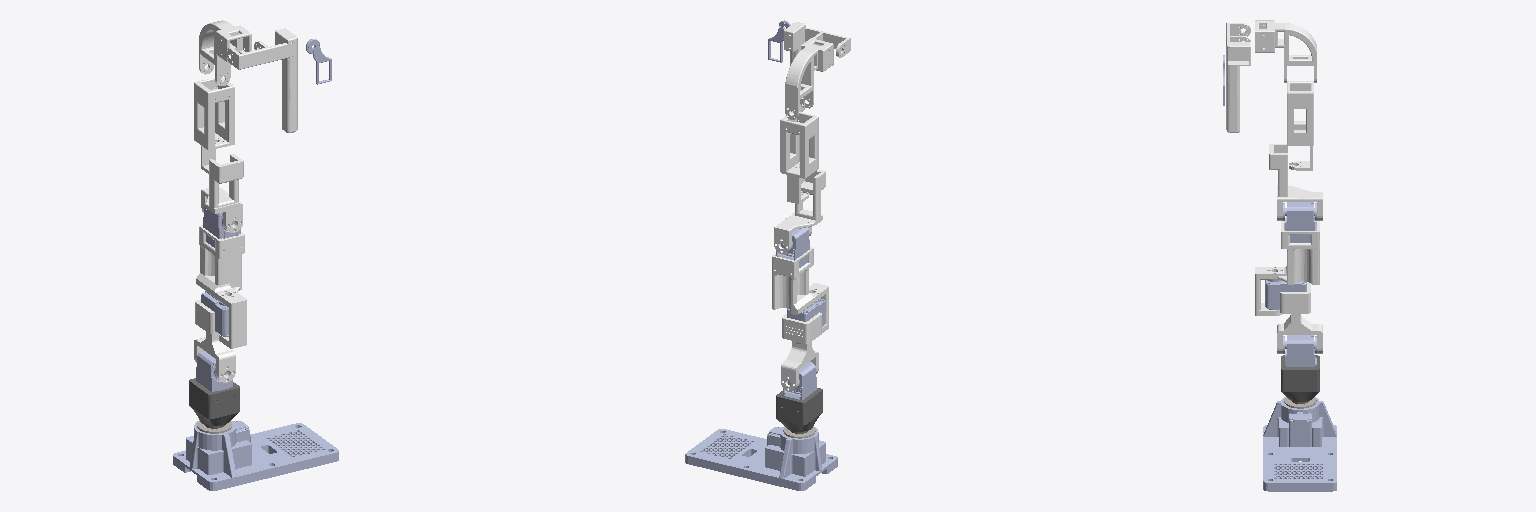
The robot description file, URDF, robot "force_gello_urdf":
<?xml version="1.0" encoding="utf-8"?>
<robot name="force_gello_urdf">
  <link name="world"/>
  <joint name="joint0" type="fixed">
    <origin rpy="0 0 0" xyz="0 0 0" />
    <parent link="world" />
    <child link="base_link" />
  </joint>

  <!-- base_link -->
  <link name="base_link">
    <inertial>
      <origin
        xyz="0.0317019077856031 0.000122497816009815 0.0124338259109878"
        rpy="0 0 0" />
      <mass value="67.25" />
      <inertia
        ixx="0.045127497"
        ixy="-0.000497221"
        ixz="0.016234645"
        iyy="0.131924386"
        iyz="0.000061277"
        izz="0.157329439" />
    </inertial>
    <visual>
      <origin xyz="0 0 0" rpy="0 0 0" />
      <geometry>
        <mesh filename="package://force_gello_urdf/meshes/base_link.STL" />
      </geometry>
      <material name="">
        <color rgba="0.792156862745098 0.819607843137255 0.933333333333333 1" />
      </material>
    </visual>
    <collision>
      <origin xyz="0 0 0" rpy="0 0 0" />
      <geometry>
        <mesh filename="package://force_gello_urdf/meshes/base_link.STL" />
      </geometry>
    </collision>
  </link>

  <!-- link1 -->
  <link name="link1">
    <inertial>
      <origin
        xyz="3.03020994149863E-05 0.00016374180285061 0.0239753807937216"
        rpy="0 0 0" />
      <mass value="18.04" />
      <inertia
        ixx="0.004132033"
        ixy="-0.000002208"
        ixz="-0.000033707"
        iyy="0.004888524"
        iyz="0.000310569"
        izz="0.004679501" />
    </inertial>
    <visual>
      <origin xyz="0 0 0" rpy="0 0 0" />
      <geometry>
        <mesh filename="package://force_gello_urdf/meshes/link1.STL" />
      </geometry>
      <material name="">
        <color rgba="0.501960784313725 0.501960784313725 0.501960784313725 0.25" />
      </material>
    </visual>
    <collision>
      <origin xyz="0 0 0" rpy="0 0 0" />
      <geometry>
        <mesh filename="package://force_gello_urdf/meshes/link1.STL" />
      </geometry>
    </collision>
  </link>
  <joint name="join1" type="continuous">
    <origin xyz="0 0 0.0501" rpy="0 0 -1.57079632679" />
    <parent link="base_link" />
    <child link="link1" />
    <axis xyz="0 0 1" />
  </joint>

  <!-- link2 -->
  <link name="link2">
    <inertial>
      <origin
        xyz="-0.0347685303838777 -1.35727831379085E-05 -0.0235315780840539"
        rpy="0 0 0" />
      <mass value="15.6" />
      <inertia
        ixx="0.003905395"
        ixy="-0.000004534"
        ixz="0.000025143"
        iyy="0.009299602"
        iyz="-0.000000091"
        izz="0.007985754" />
    </inertial>
    <visual>
      <origin xyz="0 0 0" rpy="0 0 0" />
      <geometry>
        <mesh filename="package://force_gello_urdf/meshes/link2.STL" />
      </geometry>
      <material name="">
        <color rgba="1 1 1 1" />
      </material>
    </visual>
    <collision>
      <origin xyz="0 0 0" rpy="0 0 0" />
      <geometry>
        <mesh filename="package://force_gello_urdf/meshes/link2.STL" />
      </geometry>
    </collision>
  </link>
  <joint name="joint2" type="continuous">
    <origin xyz="0.0255 0 0.06786667" rpy="0 1.5707963267949 0" />
    <parent link="link1" />
    <child link="link2" />
    <axis xyz="0 0 1" />
  </joint>

  <!-- link3 -->
  <link name="link3">
    <inertial>
      <origin
        xyz="0.00621142929683009 0.0184041501617898 0.00995822777672023"
        rpy="0 0 0" />
      <mass value="24.3" />
      <inertia
        ixx="0.026430932"
        ixy="-0.001390066"
        ixz="-0.002005179"
        iyy="0.018548759"
        iyz="-0.007654696"
        izz="0.01165823" />
    </inertial>
    <visual>
      <origin xyz="0 0 0" rpy="0 0 0" />
      <geometry>
        <mesh filename="package://force_gello_urdf/meshes/link3.STL" />
      </geometry>
      <material name="">
        <color rgba="1 1 1 0.25" />
      </material>
    </visual>
    <collision>
      <origin xyz="0 0 0" rpy="0 0 0" />
      <geometry>
        <mesh filename="package://force_gello_urdf/meshes/link3.STL" />
      </geometry>
    </collision>
  </link>
  <joint name="joint3" type="continuous">
    <origin
      xyz="-0.0891650146194216 0 0.00231333000000002"
      rpy="-1.5707963267949 0 1.5707963267949" />
    <parent link="link2" />
    <child link="link3" />
    <axis xyz="0 0 1" />
  </joint>

  <!-- link4 -->
  <link name="link4">
    <inertial>
      <origin
        xyz="-0.0056615029518119 -0.0322004124361468 0.0123421466030631"
        rpy="0 0 0" />
      <mass value="13.1" />
      <inertia
        ixx="0.009925968"
        ixy="-0.000830187"
        ixz="-0.000534387"
        iyy="0.004715315"
        iyz="-0.002728009"
        izz="0.007593238" />
    </inertial>
    <visual>
      <origin xyz="0 0 0" rpy="0 0 0" />
      <geometry>
        <mesh filename="package://force_gello_urdf/meshes/link4.STL" />
      </geometry>
      <material name="">
        <color rgba="1 1 1 0.25" />
      </material>
    </visual>
    <collision>
      <origin xyz="0 0 0" rpy="0 0 0" />
      <geometry>
        <mesh filename="package://force_gello_urdf/meshes/link4.STL" />
      </geometry>
    </collision>
  </link>
  <joint name="joint4" type="continuous">
    <origin
      xyz="0.00850666380206562 0.00231334175953646 0.0740349853805785"
      rpy="-1.5707963267949 0 0" />
    <parent link="link3" />
    <child link="link4" />
    <axis xyz="0 0 1" />
  </joint>

  <!-- link5 -->
  <link name="link5">
    <inertial>
      <origin
        xyz="-0.00528527800387003 5.0064676190978E-06 0.0290932539408084"
        rpy="0 0 0" />
      <mass value="16.3" />
      <inertia
        ixx="0.012577227"
        ixy="-0.000000429"
        ixz="-0.000588027"
        iyy="0.012002534"
        iyz="0.000000044"
        izz="0.003500665" />
    </inertial>
    <visual>
      <origin xyz="0 0 0" rpy="0 0 0" />
      <geometry>
        <mesh filename="package://force_gello_urdf/meshes/link5.STL" />
      </geometry>
      <material name="">
        <color rgba="1 1 1 1" />
      </material>
    </visual>
    <collision>
      <origin xyz="0 0 0" rpy="0 0 0" />
      <geometry>
        <mesh filename="package://force_gello_urdf/meshes/link5.STL" />
      </geometry>
    </collision>
  </link>
  <joint name="joint5" type="continuous">
    <origin
      xyz="-0.008506667 -0.0789331801981524 0.021046667"
      rpy="1.5707963267949 1.5707963267949 0" />
    <parent link="link4" />
    <child link="link5" />
    <axis xyz="0 0 1" />
  </joint>

  <!-- link6 -->
  <link name="link6">
    <inertial>
      <origin
        xyz="-6.59219054577203E-07 0.0383145431149022 -0.00220958689963641"
        rpy="0 0 0" />
      <mass value="14.91" />
      <inertia
        ixx="0.009406079"
        ixy="0.000000538"
        ixz="0.000000674"
        iyy="0.006387543"
        iyz="-0.002234883"
        izz="0.004502388" />
    </inertial>
    <visual>
      <origin xyz="0 0 0" rpy="0 0 0" />
      <geometry>
        <mesh filename="package://force_gello_urdf/meshes/link6.STL" />
      </geometry>
      <material name="">
        <color rgba="1 1 1 1" />
      </material>
    </visual>
    <collision>
      <origin xyz="0 0 0" rpy="0 0 0" />
      <geometry>
        <mesh filename="package://force_gello_urdf/meshes/link6.STL" />
      </geometry>
    </collision>
  </link>
  <joint name="jonit6" type="continuous">
    <origin
      xyz="0.0135466670000058 0 0.0800001198018476"
      rpy="1.5707963267949 0 1.5707963267949" />
    <parent link="link5" />
    <child link="link6" />
    <axis xyz="0 0 1" />
  </joint>

  <!-- link7 -->
  <link name="link7">
    <inertial>
      <origin
        xyz="0.0280387804523955 -0.0100778690942196 0.0157666007372195"
        rpy="0 0 0" />
      <mass value="18.5" />
      <inertia
        ixx="0.007771143"
        ixy="0.000477751"
        ixz="-0.005568384"
        iyy="0.024887228"
        iyz="-0.00019489"
        izz="0.018855311" />
    </inertial>
    <visual>
      <origin xyz="0 0 0" rpy="0 0 0" />
      <geometry>
        <mesh filename="package://force_gello_urdf/meshes/link7.STL" />
      </geometry>
      <material name="">
        <color rgba="1 1 1 1" />
      </material>
    </visual>
    <collision>
      <origin xyz="0 0 0" rpy="0 0 0" />
      <geometry>
        <mesh filename="package://force_gello_urdf/meshes/link7.STL" />
      </geometry>
    </collision>
  </link>
  <joint name="joint7" type="continuous">
    <origin
      xyz="0.0180000000000007 0.0469333300000001 0.0437119999999942"
      rpy="-1.5707963267949 0 -1.5707963267949" />
    <parent link="link6" />
    <child link="link7" />
    <axis xyz="0 0 1" />
  </joint>

  <!-- link8 -->
  <link name="link8">
    <inertial>
      <origin
        xyz="0.00631459336826165 -0.0133873198803782 -0.0015000015960715"
        rpy="0 0 0" />
      <mass value="2.4" />
      <inertia
        ixx="0.000462373"
        ixy="0.000157533"
        ixz="-9.7414E-11"
        iyy="0.000125856"
        iyz="-1.15147E-10"
        izz="0.000584835" />
    </inertial>
    <visual>
      <origin xyz="0 0 0" rpy="0 0 0" />
      <geometry>
        <mesh filename="package://force_gello_urdf/meshes/link8.STL" />
      </geometry>
      <material name="">
        <color rgba="0.792156862745098 0.819607843137255 0.933333333333333 1" />
      </material>
    </visual>
    <collision>
      <origin xyz="0 0 0" rpy="0 0 0" />
      <geometry>
        <mesh filename="package://force_gello_urdf/meshes/link8.STL" />
      </geometry>
    </collision>
  </link>
  <joint name="joint8" type="continuous">
    <origin
      xyz="0 -0.0224999999999999 0.0474999999999993"
      rpy="1.57079632679491 -1.5707963267949 0" />
    <parent link="link7" />
    <child link="link8" />
    <axis xyz="0 0 -1" />
  </joint>

  <!-- flange (no inertial given) -->
  <link name="flange"/>
  <joint name="link7_to_flange" type="fixed">
    <parent link="link7" />
    <child link="flange" />
    <origin rpy="0 6.28318530718 0" xyz="0.0 0.0 0.03"/>
  </joint>

  <!-- motor7 -->
  <link name="motor7">
    <inertial>
      <origin
        xyz="-6.67089214811956E-06 -0.00663537074253837 0.0418258086254109"
        rpy="0 0 0" />
      <mass value="37.28" />
      <inertia
        ixx="0.003557032"
        ixy="0.000000113"
        ixz="0.000002699"
        iyy="0.004684389"
        iyz="-0.000005119"
        izz="0.00161564" />
    </inertial>
    <visual>
      <origin xyz="0 0 0" rpy="0 0 0" />
      <geometry>
        <mesh filename="package://force_gello_urdf/meshes/motor7.STL" />
      </geometry>
      <material name="">
        <color rgba="1 1 1 1" />
      </material>
    </visual>
    <collision>
      <origin xyz="0 0 0" rpy="0 0 0" />
      <geometry>
        <mesh filename="package://force_gello_urdf/meshes/motor7.STL" />
      </geometry>
    </collision>
  </link>
  <joint name="motor7" type="fixed">
    <origin xyz="0 0 0" rpy="0 0 0" />
    <parent link="link7" />
    <child link="motor7" />
    <axis xyz="0 0 0" />
  </joint>

  <!-- motor6 -->
  <link name="motor6">
    <inertial>
      <origin
        xyz="-0.00163537362274013 0.0469400021832104 0.0380378067925801"
        rpy="0 0 0" />
      <mass value="37.28" />
      <inertia
        ixx="0.004684389"
        ixy="-0.000000113"
        ixz="-0.000005119"
        iyy="0.003557032"
        iyz="-0.000002699"
        izz="0.001615641" />
    </inertial>
    <visual>
      <origin xyz="0 0 0" rpy="0 0 0" />
      <geometry>
        <mesh filename="package://force_gello_urdf/meshes/motor6.STL" />
      </geometry>
      <material name="">
        <color rgba="1 1 1 1" />
      </material>
    </visual>
    <collision>
      <origin xyz="0 0 0" rpy="0 0 0" />
      <geometry>
        <mesh filename="package://force_gello_urdf/meshes/motor6.STL" />
      </geometry>
    </collision>
  </link>
  <joint name="motor6" type="fixed">
    <origin xyz="0 0 0" rpy="0 0 0" />
    <parent link="link6" />
    <child link="motor6" />
    <axis xyz="0 0 0" />
  </joint>

  <!-- motor5 -->
  <link name="motor5">
    <inertial>
      <origin
        xyz="-0.00608870374254241 6.67089214718616E-06 0.074325928427259"
        rpy="0 0 0" />
      <mass value="37.28" />
      <inertia
        ixx="0.004684389"
        ixy="-0.000000113"
        ixz="-0.000005119"
        iyy="0.003557032"
        iyz="-0.000002699"
        izz="0.00161564" />
    </inertial>
    <visual>
      <origin xyz="0 0 0" rpy="0 0 0" />
      <geometry>
        <mesh filename="package://force_gello_urdf/meshes/motor5.STL" />
      </geometry>
      <material name="">
        <color rgba="1 1 1 1" />
      </material>
    </visual>
    <collision>
      <origin xyz="0 0 0" rpy="0 0 0" />
      <geometry>
        <mesh filename="package://force_gello_urdf/meshes/motor5.STL" />
      </geometry>
    </collision>
  </link>
  <joint name="motor5" type="fixed">
    <origin xyz="0 0 0" rpy="0 0 0" />
    <parent link="link5" />
    <child link="motor5" />
    <axis xyz="0 0 0" />
  </joint>

  <!-- motor4 -->
  <link name="motor4">
    <inertial>
      <origin
        xyz="-0.00849999610785278 -0.06579780945561 0.0153724756254114"
        rpy="0 0 0" />
      <mass value="37.28" />
      <inertia
        ixx="0.003557032"
        ixy="0.000000113"
        ixz="-0.000002699"
        iyy="0.004684389"
        iyz="0.000005119"
        izz="0.00161564" />
    </inertial>
    <visual>
      <origin xyz="0 0 0" rpy="0 0 0" />
      <geometry>
        <mesh filename="package://force_gello_urdf/meshes/motor4.STL" />
      </geometry>
      <material name="">
        <color rgba="1 1 1 1" />
      </material>
    </visual>
    <collision>
      <origin xyz="0 0 0" rpy="0 0 0" />
      <geometry>
        <mesh filename="package://force_gello_urdf/meshes/motor4.STL" />
      </geometry>
    </collision>
  </link>
  <joint name="motor4" type="fixed">
    <origin xyz="0 0 0" rpy="0 0 0" />
    <parent link="link4" />
    <child link="motor4" />
    <axis xyz="0 0 0" />
  </joint>

  <!-- motor3 -->
  <link name="motor3">
    <inertial>
      <origin
        xyz="0.00850635532374036 0.026024277087181 0.0639134006565433"
        rpy="0 0 0" />
      <mass value="84.19" />
      <inertia
        ixx="0.014120297"
        ixy="0.0000005"
        ixz="-0.000009697"
        iyy="0.018263265"
        iyz="-0.000076394"
        izz="0.005941697" />
    </inertial>
    <visual>
      <origin xyz="0 0 0" rpy="0 0 0" />
      <geometry>
        <mesh filename="package://force_gello_urdf/meshes/motor3.STL" />
      </geometry>
      <material name="">
        <color rgba="0.792156862745098 0.819607843137255 0.933333333333333 1" />
      </material>
    </visual>
    <collision>
      <origin xyz="0 0 0" rpy="0 0 0" />
      <geometry>
        <mesh filename="package://force_gello_urdf/meshes/motor3.STL" />
      </geometry>
    </collision>
  </link>
  <joint name="motor3" type="fixed">
    <origin xyz="0 0 0" rpy="0 0 0" />
    <parent link="link3" />
    <child link="motor3" />
    <axis xyz="0 0 0" />
  </joint>

  <!-- motor2 -->
  <link name="motor2">
    <inertial>
      <origin
        xyz="-0.0654540749700006 2.77823051320264E-07 -0.00780824820847558"
        rpy="0 0 0" />
      <mass value="84.19" />
      <inertia
        ixx="0.018263265"
        ixy="-0.000000506"
        ixz="-0.000076394"
        iyy="0.014120298"
        iyz="0.000009699"
        izz="0.005941696" />
    </inertial>
    <visual>
      <origin xyz="0 0 0" rpy="0 0 0" />
      <geometry>
        <mesh filename="package://force_gello_urdf/meshes/motor2.STL" />
      </geometry>
      <material name="">
        <color rgba="0.792156862745098 0.819607843137255 0.933333333333333 1" />
      </material>
    </visual>
    <collision>
      <origin xyz="0 0 0" rpy="0 0 0" />
      <geometry>
        <mesh filename="package://force_gello_urdf/meshes/motor2.STL" />
      </geometry>
    </collision>
  </link>
  <joint name="motor2" type="fixed">
    <origin xyz="0 0 0" rpy="0 0 0" />
    <parent link="link2" />
    <child link="motor2" />
    <axis xyz="0 0 0" />
  </joint>

  <!-- motor1 -->
  <link name="motor1">
    <inertial>
      <origin
        xyz="0.00178906467191881 -2.75700568299096E-07 0.0577450852759487"
        rpy="0 0 0" />
      <mass value="84.19" />
      <inertia
        ixx="0.018263265"
        ixy="-0.000000506"
        ixz="0.000076394"
        iyy="0.014120297"
        iyz="-0.000009698"
        izz="0.005941697" />
    </inertial>
    <visual>
      <origin xyz="0 0 0" rpy="0 0 0" />
      <geometry>
        <mesh filename="package://force_gello_urdf/meshes/motor1.STL" />
      </geometry>
      <material name="">
        <color rgba="0.792156862745098 0.819607843137255 0.933333333333333 1" />
      </material>
    </visual>
    <collision>
      <origin xyz="0 0 0" rpy="0 0 0" />
      <geometry>
        <mesh filename="package://force_gello_urdf/meshes/motor1.STL" />
      </geometry>
    </collision>
  </link>
  <joint name="motor1" type="fixed">
    <origin xyz="0 0 0" rpy="0 0 0" />
    <parent link="link1" />
    <child link="motor1" />
    <axis xyz="0 0 0" />
  </joint>

  <!-- motor0 -->
  <link name="motor0">
    <inertial>
      <origin
        xyz="0.0101215780965976 -2.79048657452126E-07 0.0298890612863422"
        rpy="0 0 0" />
      <mass value="84.19" />
      <inertia
        ixx="0.005941695"
        ixy="0.000009699"
        ixz="-0.000076394"
        iyy="0.014120297"
        iyz="-0.000000507"
        izz="0.018263263" />
    </inertial>
    <visual>
      <origin xyz="0 0 0" rpy="0 0 0" />
      <geometry>
        <mesh filename="package://force_gello_urdf/meshes/motor0.STL" />
      </geometry>
      <material name="">
        <color rgba="0.792156862745098 0.819607843137255 0.933333333333333 1" />
      </material>
    </visual>
    <collision>
      <origin xyz="0 0 0" rpy="0 0 0" />
      <geometry>
        <mesh filename="package://force_gello_urdf/meshes/motor0.STL" />
      </geometry>
    </collision>
  </link>
  <joint name="motor0" type="fixed">
    <origin xyz="0 0 0" rpy="0 0 0" />
    <parent link="base_link" />
    <child link="motor0" />
    <axis xyz="0 0 1" />
  </joint>

  <!-- bearing -->
  <link name="bearing">
    <inertial>
      <origin
        xyz="7.95978145843504E-19 2.94331876864476E-16 0.048725844800912"
        rpy="0 0 0" />
      <mass value="20" />
      <inertia
        ixx="0.001952949"
        ixy="4.52087E-34"
        ixz="3.41863E-21"
        iyy="0.001952949"
        iyz="7.79968E-33"
        izz="0.003724769" />
    </inertial>
    <visual>
      <origin xyz="0 0 0" rpy="0 0 0" />
      <geometry>
        <mesh filename="package://force_gello_urdf/meshes/bearing.STL" />
      </geometry>
      <material name="">
        <color rgba="0.776470588235294 0.756862745098039 0.737254901960784 1" />
      </material>
    </visual>
    <collision>
      <origin xyz="0 0 0" rpy="0 0 0" />
      <geometry>
        <mesh filename="package://force_gello_urdf/meshes/bearing.STL" />
      </geometry>
    </collision>
  </link>
  <joint name="bearing" type="fixed">
    <origin xyz="0 0 0" rpy="0 0 0" />
    <parent link="base_link" />
    <child link="bearing" />
    <axis xyz="0 0 1" />
  </joint>
</robot>

--- Render facts (derived) ---
The picture shows the robot from 3 angles, left to right: view 1: azimuth 30°, elevation 25°; view 2: azimuth 150°, elevation 25°; view 3: azimuth 270°, elevation 25°; orthographic projection.
Robot: force_gello_urdf — 20 links, 19 joints (8 continuous, 11 fixed); root link world; default pose: every joint at zero.
Links seen in each view (by area): view 1: base_link, link3, link5, link7, link6, link4, link1, link2, motor1, motor2, motor3; view 2: base_link, link5, link3, link6, link2, link4, link1, link7, motor1, motor3; view 3: base_link, link3, link7, link5, link6, link2, link4, link1, motor3, motor1, motor0, motor2.
Link boxes in pixels (bbox=[...]): base_link: bbox=[173, 420, 338, 490]; link3: bbox=[196, 225, 246, 348]; link5: bbox=[194, 77, 234, 173]; link7: bbox=[226, 28, 297, 132]; link6: bbox=[199, 20, 251, 85]; link4: bbox=[201, 154, 243, 232]; link1: bbox=[189, 378, 239, 428]; link2: bbox=[194, 299, 235, 382]; motor1: bbox=[196, 351, 232, 391]; motor2: bbox=[201, 291, 228, 336]; motor3: bbox=[203, 205, 240, 247]; base_link: bbox=[685, 426, 837, 490]; link5: bbox=[780, 111, 818, 204]; link3: bbox=[772, 247, 828, 332]; link6: bbox=[785, 38, 833, 119]; link2: bbox=[781, 312, 821, 391]; link4: bbox=[774, 170, 825, 253]; link1: bbox=[776, 388, 822, 433]; link7: bbox=[784, 22, 850, 111]; motor1: bbox=[783, 362, 816, 399]; motor3: bbox=[776, 227, 809, 267]; base_link: bbox=[1263, 397, 1336, 491]; link3: bbox=[1255, 221, 1319, 315]; link7: bbox=[1226, 23, 1250, 132]; link5: bbox=[1287, 81, 1313, 170]; link6: bbox=[1255, 20, 1316, 82]; link2: bbox=[1277, 282, 1322, 353]; link4: bbox=[1269, 144, 1322, 220]; link1: bbox=[1281, 355, 1319, 403]; motor3: bbox=[1283, 202, 1316, 242]; motor1: bbox=[1283, 335, 1316, 366]; motor0: bbox=[1289, 412, 1311, 446]; motor2: bbox=[1265, 280, 1306, 309].
Size in the robot's own frame: 0.15 by 0.1242 by 0.5 metres.
14 mesh visuals loaded from 18 distinct referenced files (14 binary STL); not drawn: 4 (reference not matched to a file when rendering).
